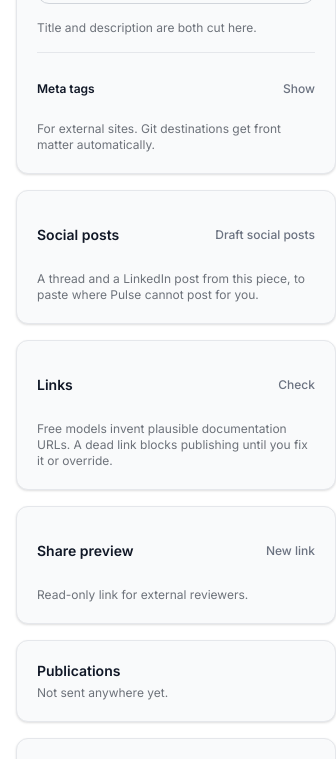
Scenario: the link check › says a body with no links has none, rather than showing nothing
The width and height of the screenshot is (336, 759).
(page scrolled)
Step 1. Click the button "Check" → click(297, 384), box top-left (268, 360), bottom-right (325, 408)
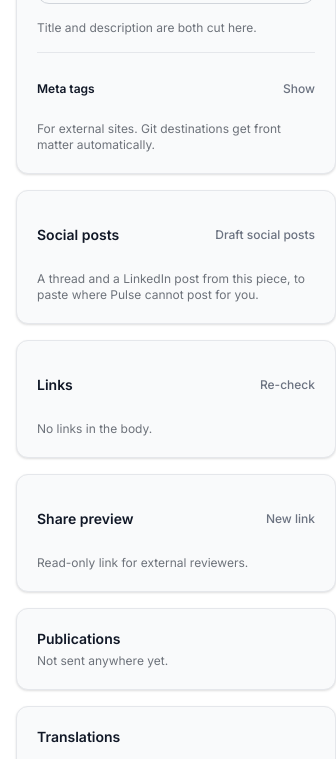
Result: the text "No links in the body." is shown at top-left (37, 420), bottom-right (152, 436)
